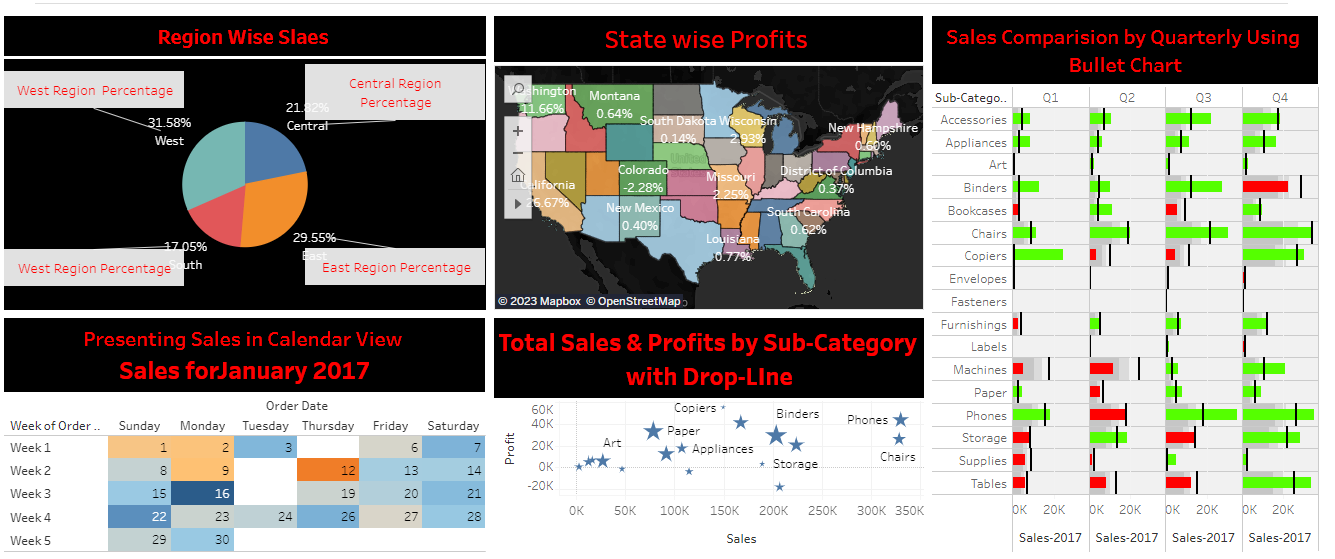

The page's visual inventory and layout, read from the dashboard file:
{"tool":"tableau","page":{"name":"Dashboard 1","canvas":[1000,1000],"units":"permille","ordinal":0},"visuals":[{"type":"worksheet","title":"Pie_Chart","mark":"Pie","box":[6.9,13.7,365.3,539.4]},{"type":"worksheet","title":"Map_Chart ","mark":"Multipolygon","box":[372.2,13.7,326.5,539.4]},{"type":"worksheet","title":"Sales_Comparision_Quarterly","mark":"Automatic","rows":["Sub-Category"],"cols":["Order Date","Calculation_815151589637390337"],"box":[698.7,13.7,294.4,972.6]},{"type":"worksheet","title":"Calendar Chart","mark":"Square","rows":["Order Date"],"cols":["Order Date"],"box":[6.9,553.1,365.3,433.2]},{"type":"worksheet","title":"Sales & Profits","mark":"Automatic","rows":["Profit"],"cols":["Sales"],"box":[372.2,553.1,326.5,433.2]}]}

Visuals, with their boxes on the dashboard's canvas, which has no fixed pixel size, in thousandths of its width and height (x1, y1, x2, y2). These are canvas units, not pixel positions in the 1335x559 screenshot, which may show the page scaled, cropped or inside an application window:
"Pie_Chart" worksheet (Pie marks): region(7, 14, 372, 553)
"Map_Chart " worksheet (Multipolygon marks): region(372, 14, 699, 553)
"Sales_Comparision_Quarterly" worksheet: region(699, 14, 993, 986)
"Calendar Chart" worksheet (Square marks): region(7, 553, 372, 986)
"Sales & Profits" worksheet: region(372, 553, 699, 986)
